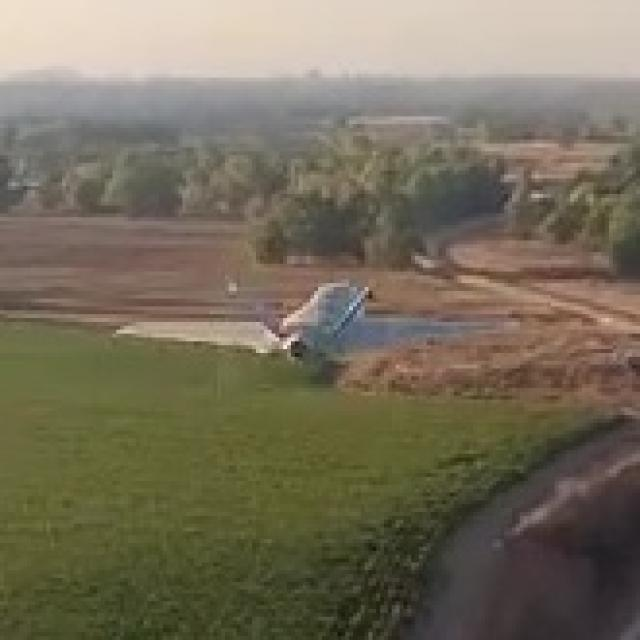iha: (116, 303, 527, 340)
